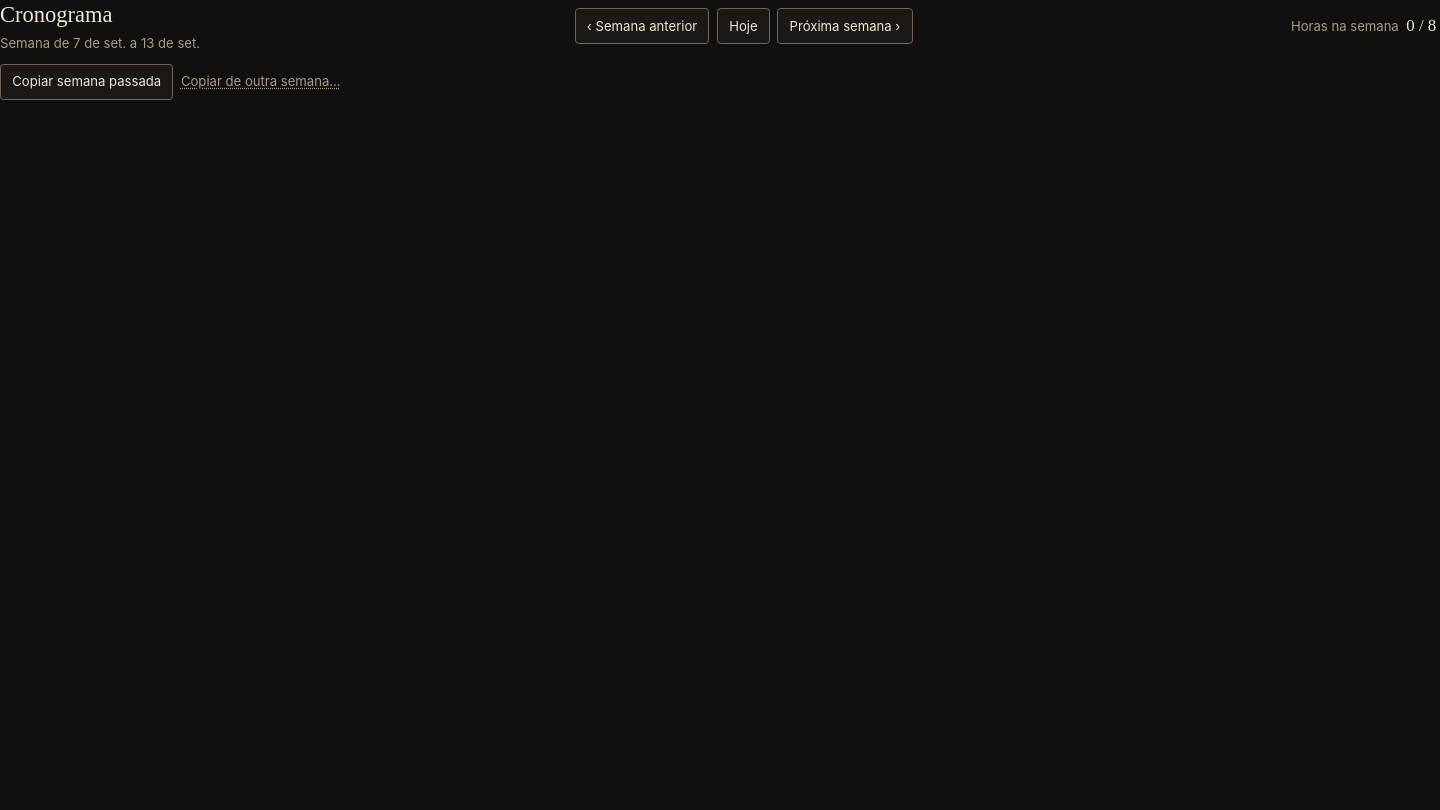
CabecalhoDeSemana — semana modelo › semana de destino com blocos mostra o aviso de que o resultado é a soma dos dois
This screenshot has width=1440, height=810.
Click the button "Copiar semana passada": (87, 82) x1=0 y1=64 x2=173 y2=100
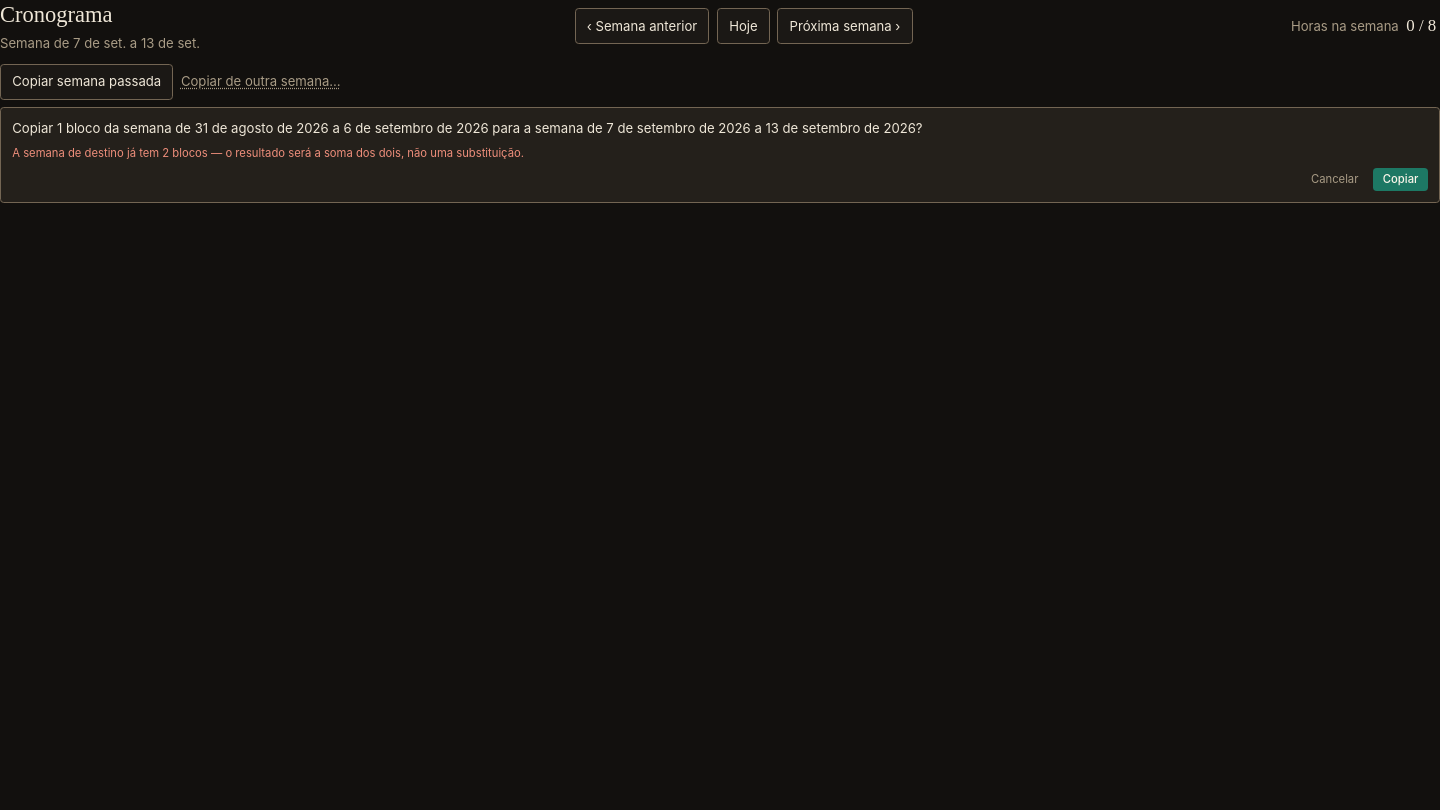
Now the dialog shows "A semana de destino já tem 2 blocos — o resultado será a soma dos dois, não uma substituição.", box x1=0 y1=107 x2=1439 y2=203
